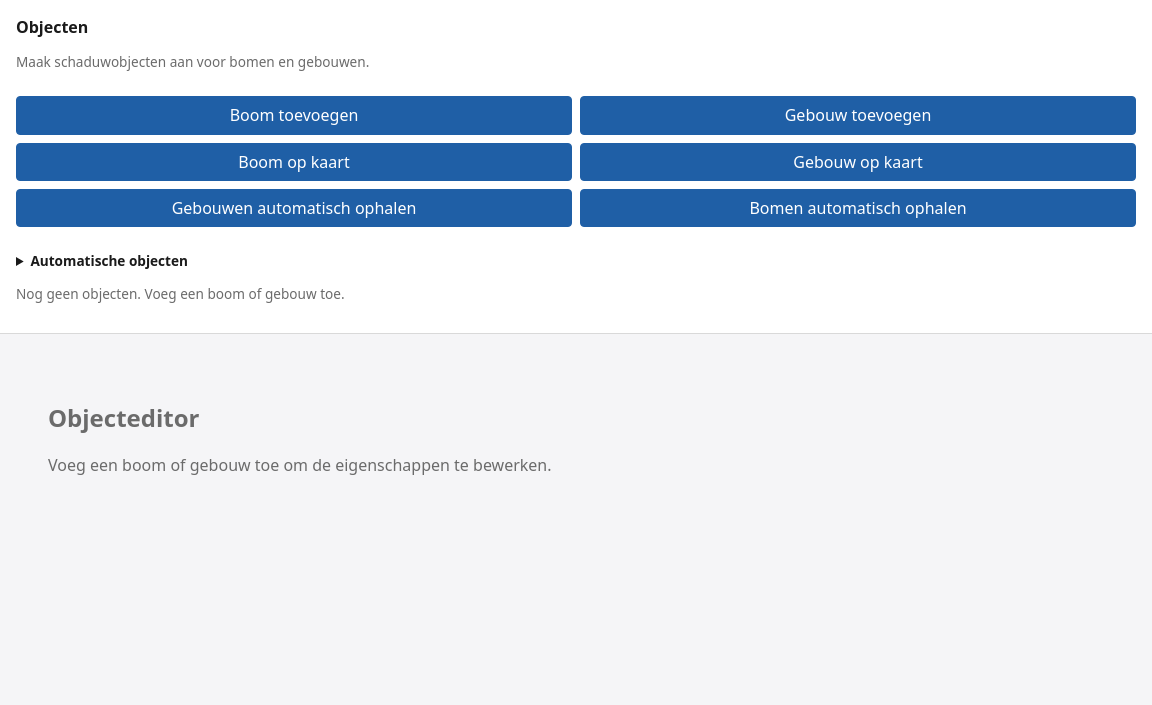
Scenario: <ObjectsTab> › imports nearby buildings from 3D BAG
Click the button "Gebouwen automatisch ophalen" at (294, 208), box [16,189,572,227]
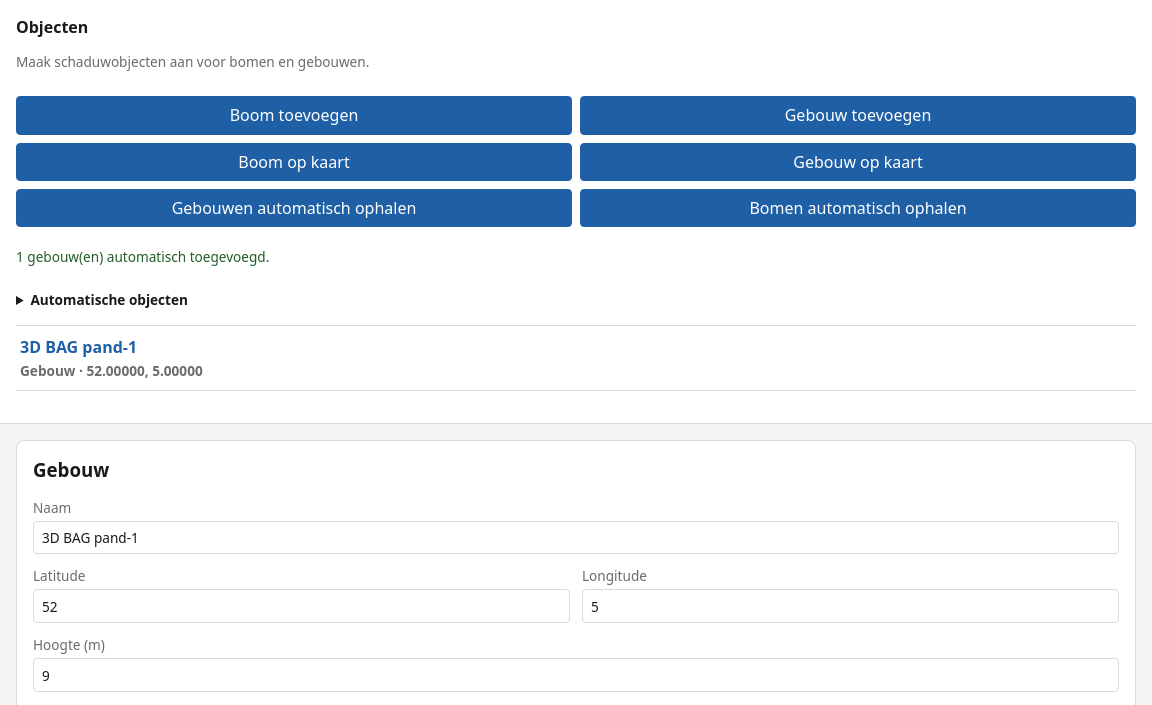
Check: the text "1 gebouw(en) automatisch toegevoegd." is shown, box [16,247,269,266]
